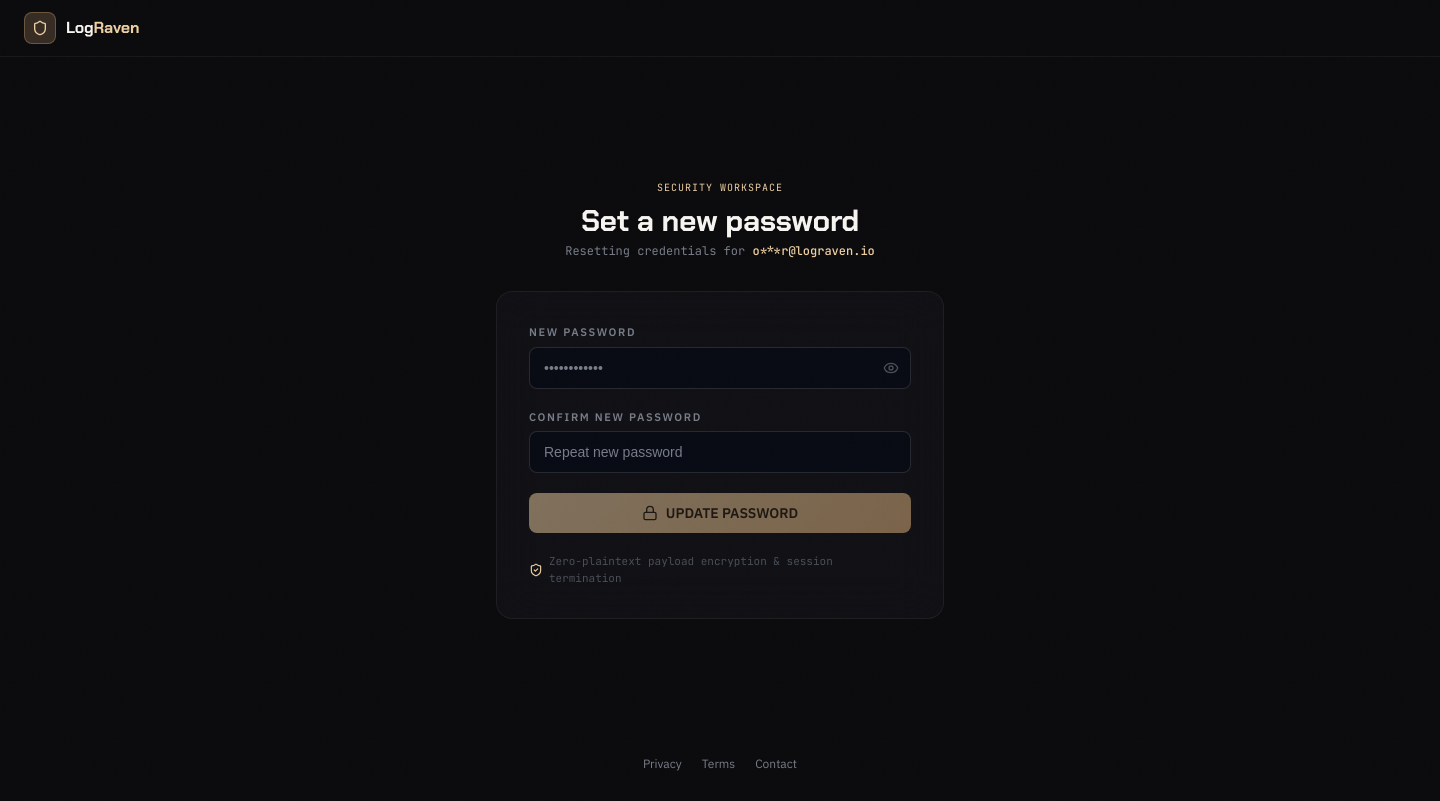
it: ResetPassword › encrypts credentials and submits reset password successfully
Type "ComplexSecureP@ss2026!" into the password field labelled "New password" at (720, 368), box [529, 346, 911, 388]
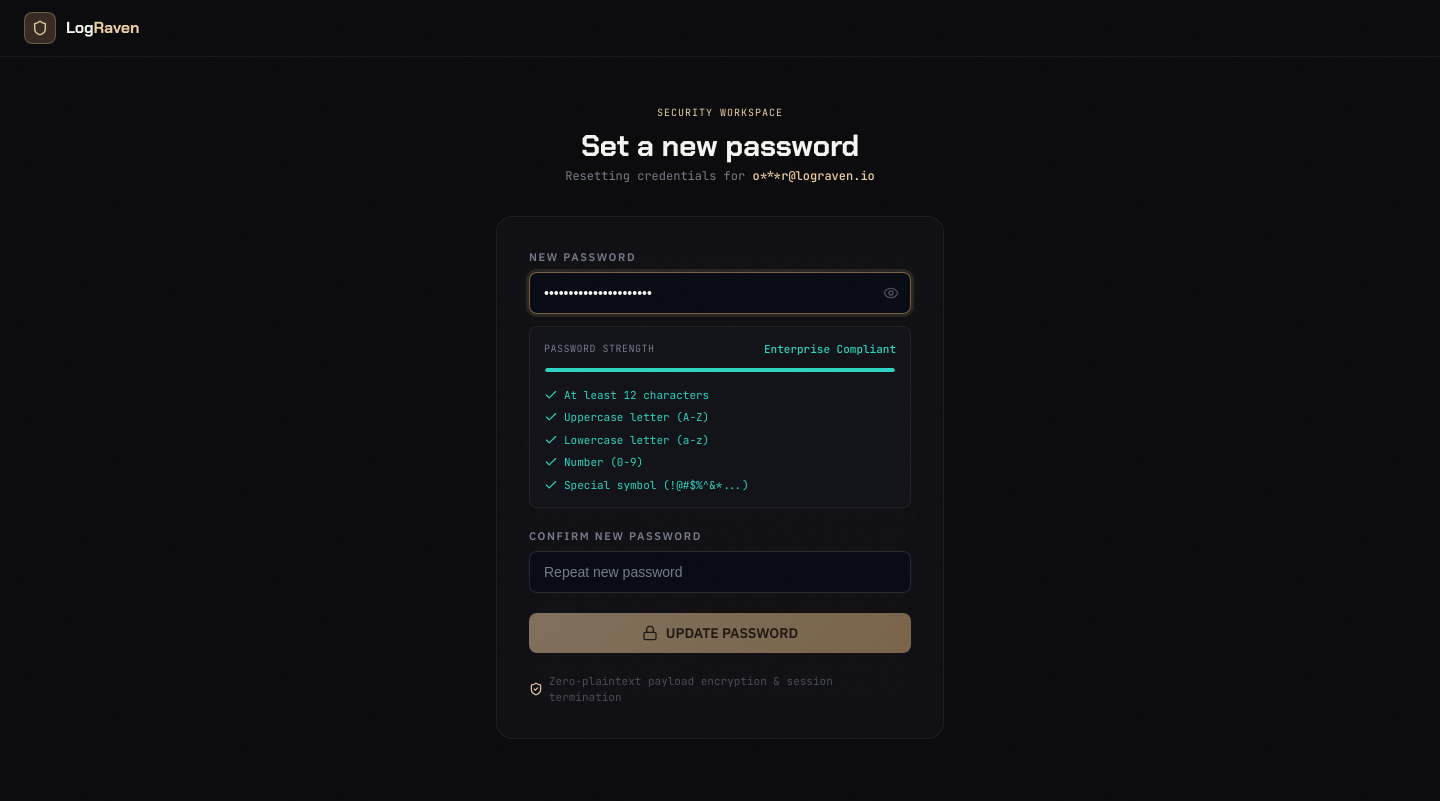
Type "ComplexSecureP@ss2026!" into the password field labelled "Confirm new password" at (720, 572), box [529, 550, 911, 592]
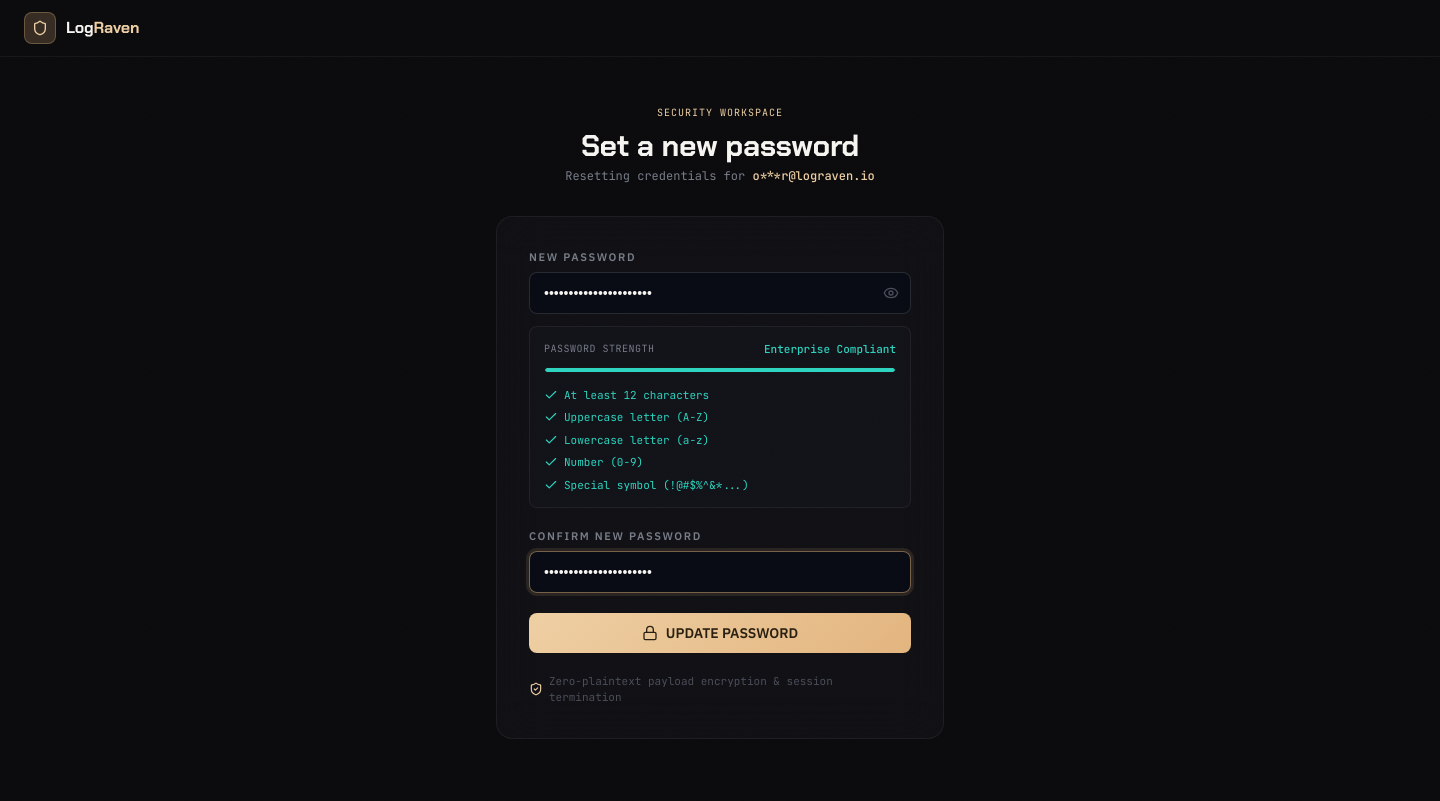
Click the button "Update password" at (720, 632), box [529, 612, 911, 652]
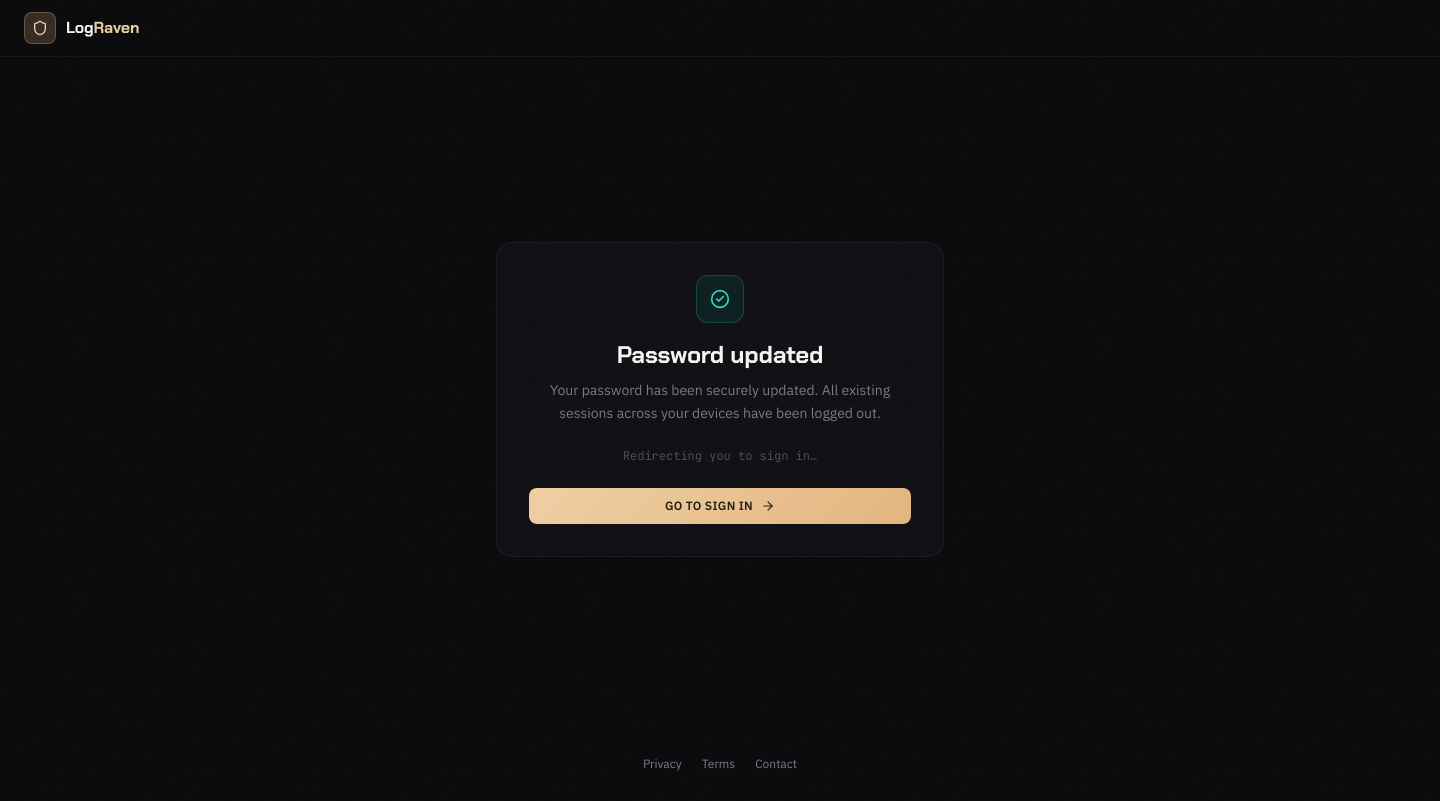
Expected: the element with test id "reset-password-success" is shown, [496, 242, 944, 557]
Expected: the heading "Password updated" is shown, [617, 339, 823, 370]
